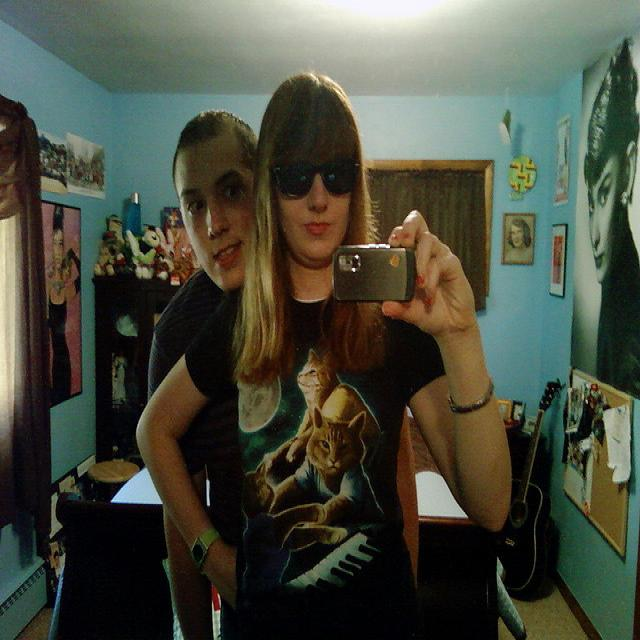chair: (56, 491, 176, 640), (87, 461, 140, 500)
dining table: (110, 464, 479, 526)
